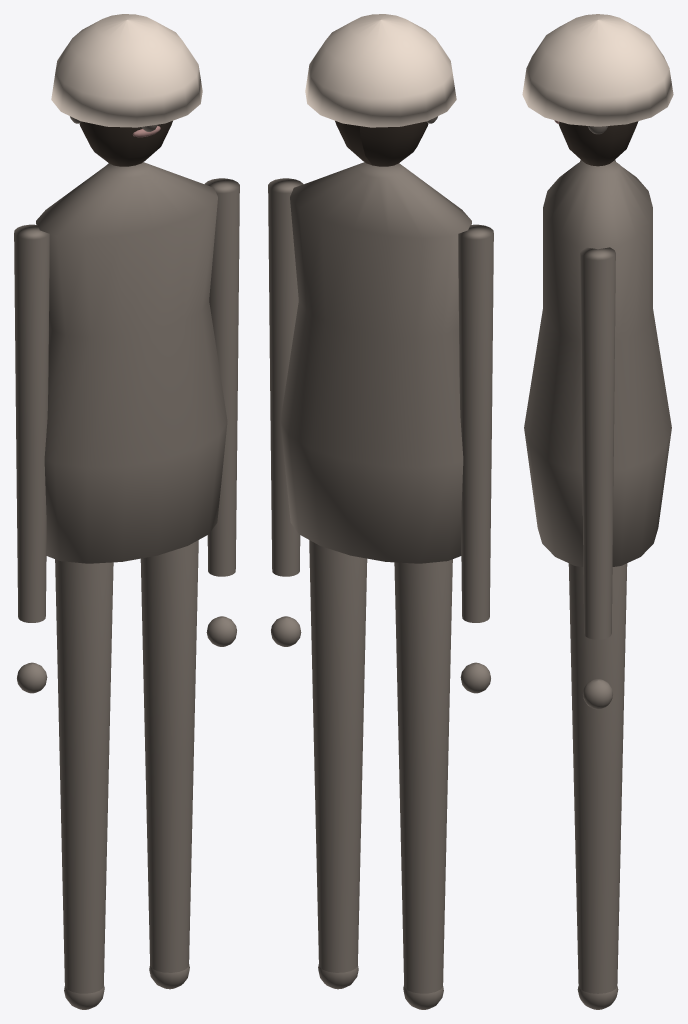
File: avatar_mesh.glb
3 renders of one model, left to right at view 1: azimuth 30°, elevation 25°; view 2: azimuth 150°, elevation 25°; view 3: azimuth 270°, elevation 25°, orthographic.
Parts seen in each view (by area): view 1: avatar; view 2: avatar; view 3: avatar.
Part boxes in pixels (<box>): avatar: <box>14,14,239,1009</box>; avatar: <box>268,14,493,1009</box>; avatar: <box>522,14,673,1009</box>.
Bounding box in the file's own units: 0.3566 × 1.51 × 0.2132.
Materials: 6 (1 with a texture image).
